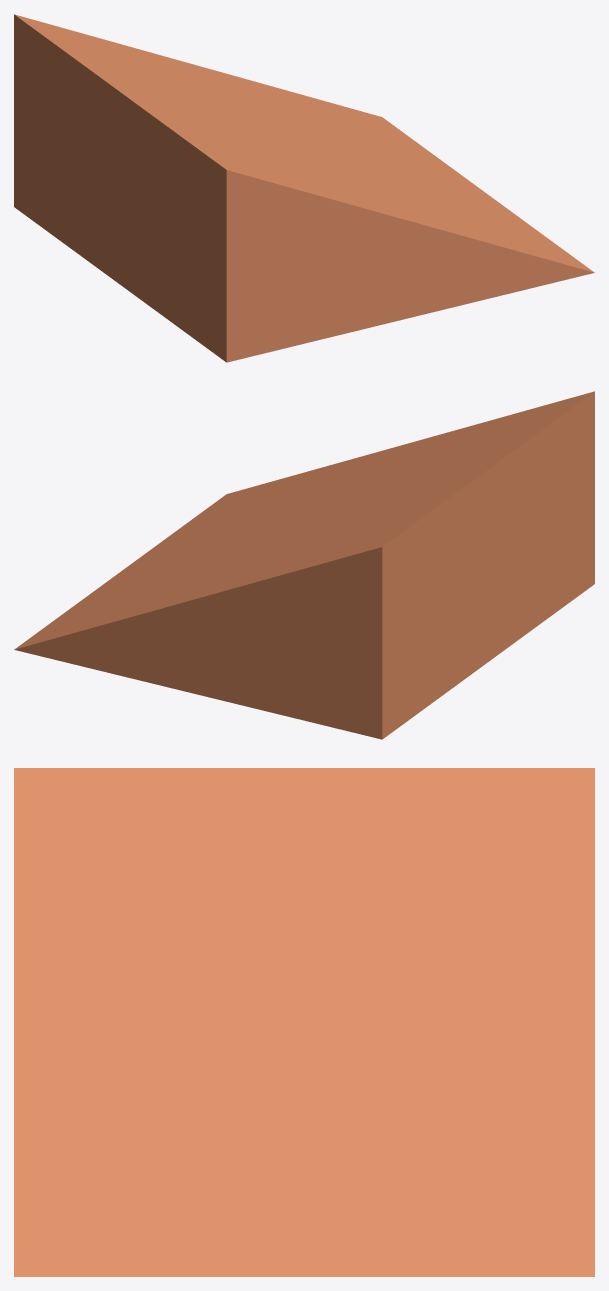
Rendered from ramp.fbx.
3 renders of one model, top to bottom at view 1: azimuth 30°, elevation 25°; view 2: azimuth 150°, elevation 25°; view 3: azimuth 270°, elevation 25°, orthographic. The views are drawn at different scales.
Visible parts, largest first — view 1: Cube; view 2: Cube; view 3: Cube.
Boxes of the visible parts, x1=… form: Cube: x1=14, y1=14, x2=594, y2=362; Cube: x1=14, y1=391, x2=594, y2=739; Cube: x1=14, y1=768, x2=594, y2=1276.
Size of the model in its own units: 200 by 100 by 200.
